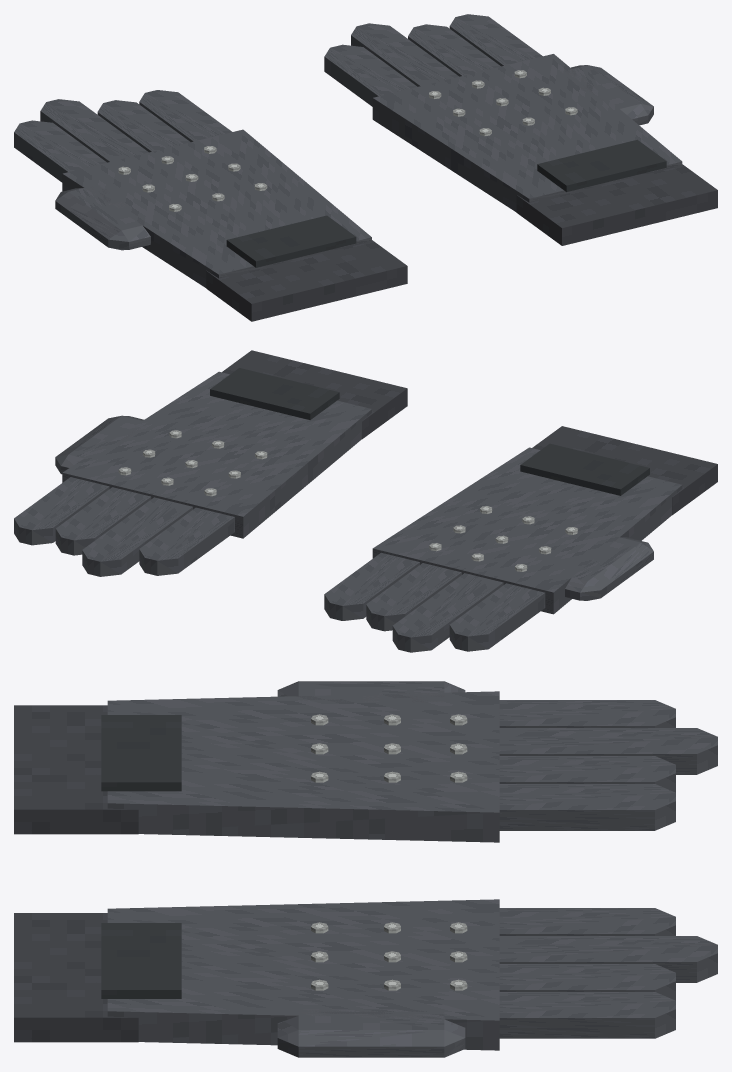
Rendered from gloves_golf.glb.
3 renders of one model, top to bottom at view 1: azimuth 30°, elevation 25°; view 2: azimuth 150°, elevation 25°; view 3: azimuth 270°, elevation 25°, orthographic. The views are drawn at different scales.
Parts seen in each view (by area): view 1: block_glove palm (×2), block_finger (×8), block_cuff (×2), block_wrist closure (×2), block_thumb (×2); view 2: block_glove palm (×2), block_finger (×8), block_cuff (×2), block_wrist closure (×2), block_thumb (×2); view 3: block_glove palm (×2), block_finger (×8), block_cuff (×2), block_wrist closure (×2), block_thumb (×2).
Part boxes in pixels (x1=…): block_glove palm (×2): x1=62, y1=54, x2=682, y2=287; block_finger (×8): x1=14, y1=14, x2=542, y2=182; block_cuff (×2): x1=206, y1=164, x2=717, y2=321; block_wrist closure (×2): x1=226, y1=139, x2=666, y2=267; block_thumb (×2): x1=55, y1=65, x2=653, y2=250; block_glove palm (×2): x1=62, y1=371, x2=682, y2=614; block_finger (×8): x1=14, y1=477, x2=545, y2=652; block_cuff (×2): x1=222, y1=350, x2=717, y2=514; block_wrist closure (×2): x1=210, y1=368, x2=649, y2=495; block_thumb (×2): x1=55, y1=415, x2=653, y2=600; block_glove palm (×2): x1=107, y1=691, x2=499, y2=1050; block_finger (×8): x1=499, y1=700, x2=717, y2=1038; block_cuff (×2): x1=14, y1=705, x2=138, y2=1042; block_wrist closure (×2): x1=101, y1=715, x2=181, y2=998; block_thumb (×2): x1=277, y1=681, x2=465, y2=1057.
Bounding box in the file's own units: 0.1953 × 0.00971 × 0.1589.
1 material, 1 textured.
